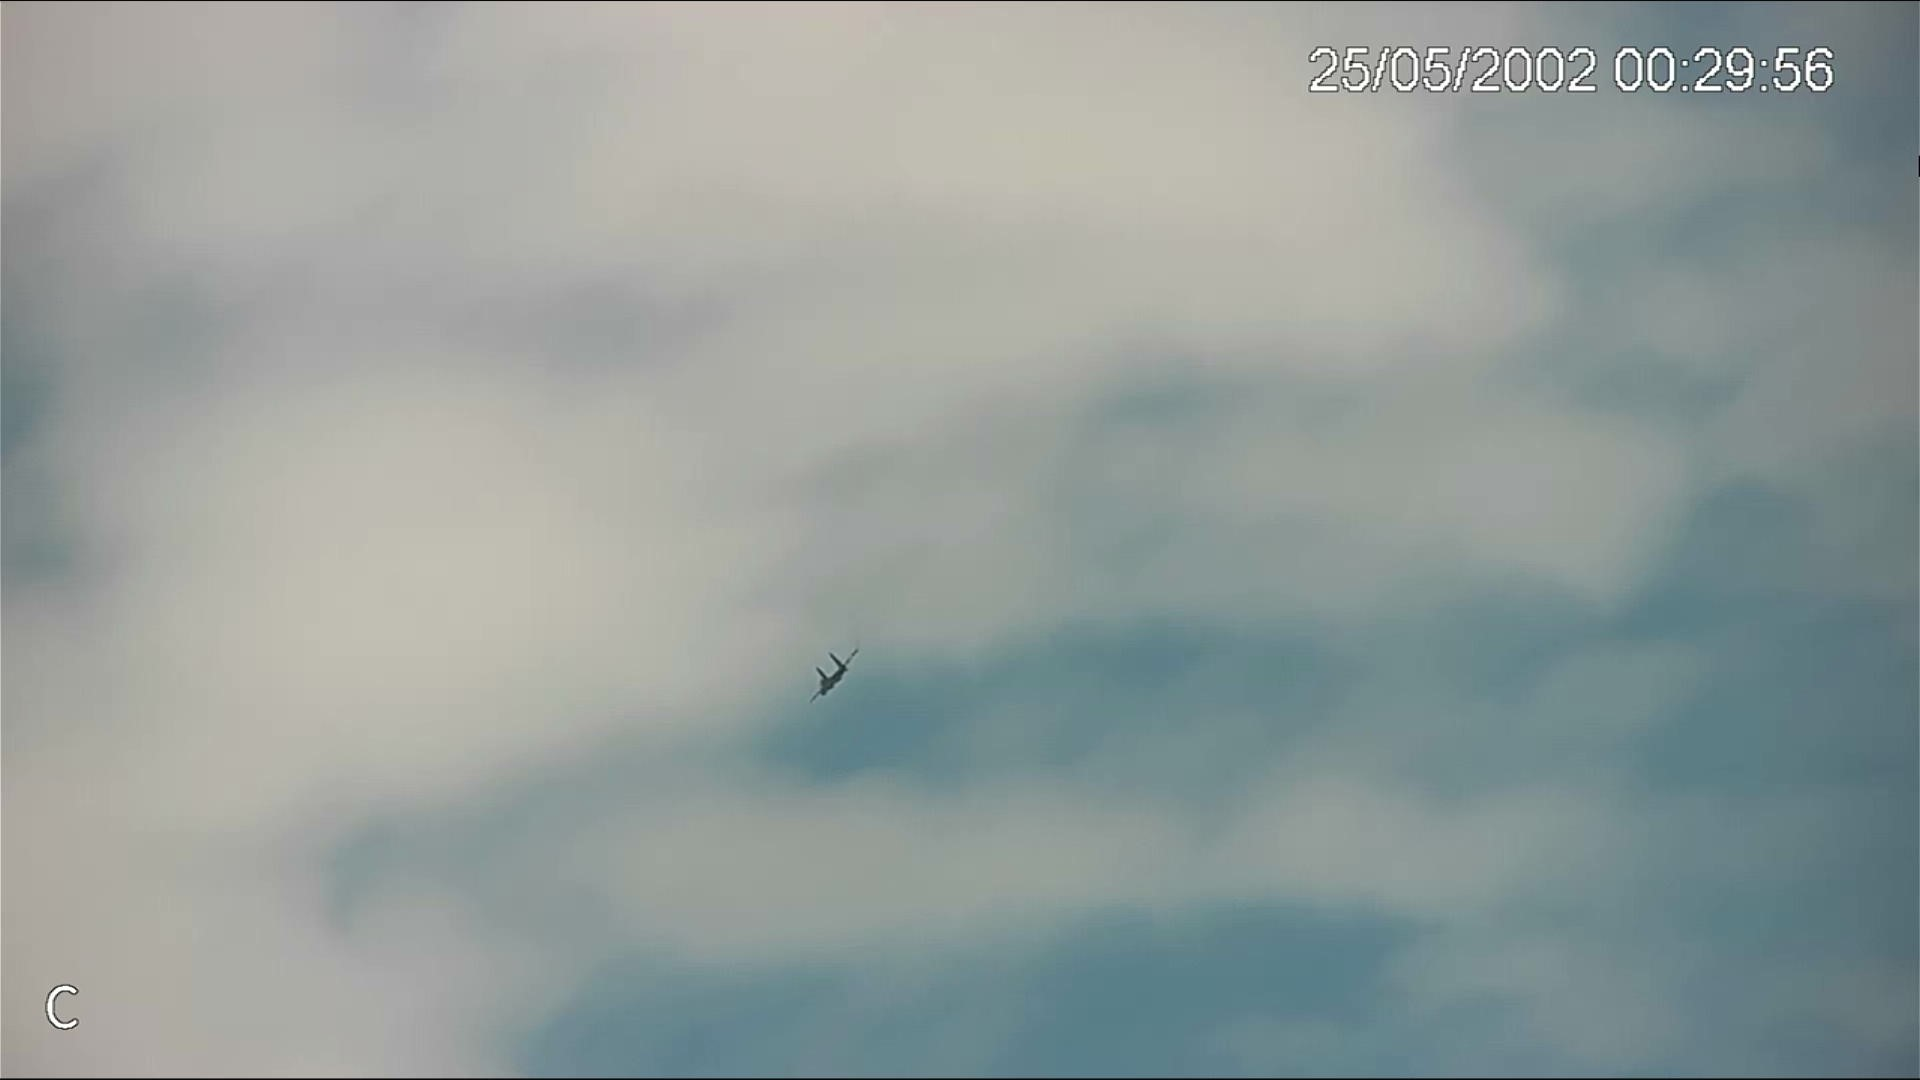SU_30: (807, 647, 862, 703)
